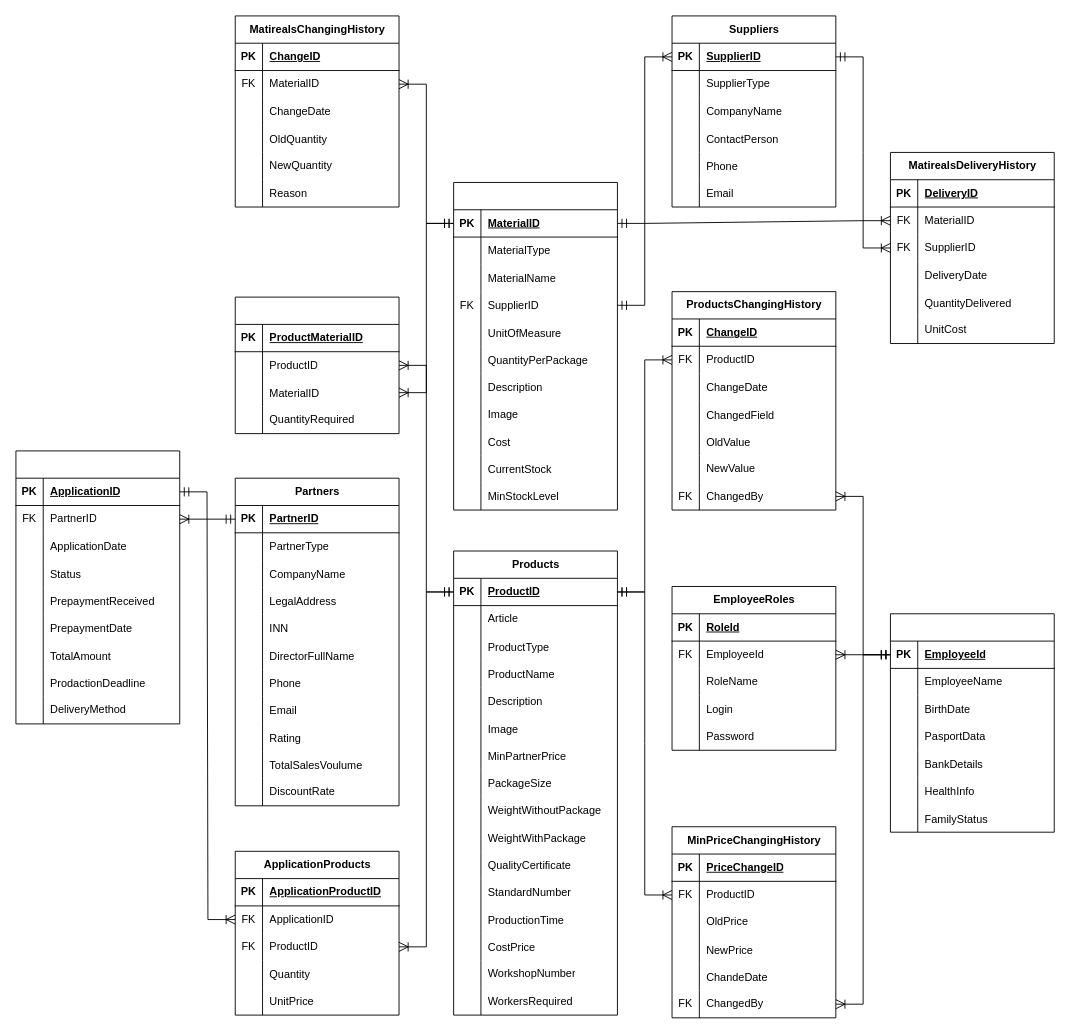
Some shapes in this 1070 by 1034 pixel diagram are drawn without their labels. Here are the shapes that lost their labels. From the top down, the box of each, then its label:
(234, 296, 399, 434): ProductMaterials
(453, 182, 617, 510): Matireals
(15, 450, 180, 724): Applications
(890, 613, 1054, 832): Employees
